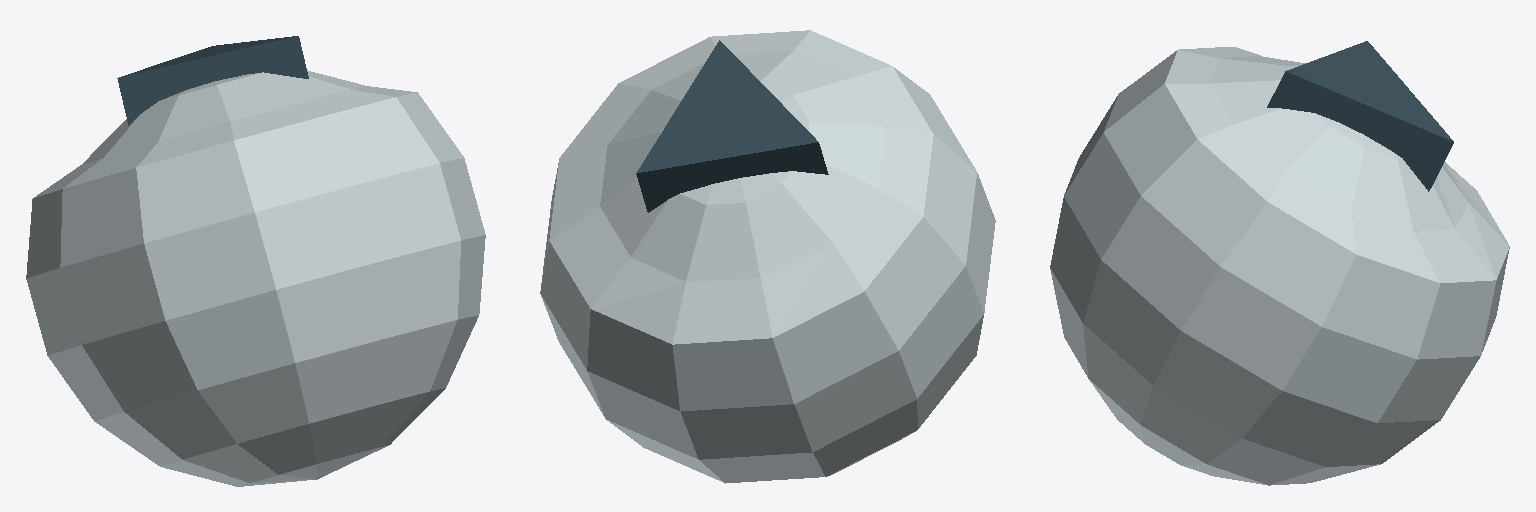
3 views of the same model, side by side, from view 1: azimuth 30°, elevation 25°; view 2: azimuth 150°, elevation 25°; view 3: azimuth 270°, elevation 25° (orthographic).
Parts seen in each view (by area): view 1: group[number redacted], group[number redacted]; view 2: group[number redacted], group[number redacted]; view 3: group[number redacted], group[number redacted].
Boxes of the visible parts, <box> form: group[number redacted]: <box>26,70,485,486</box>; group[number redacted]: <box>117,36,308,125</box>; group[number redacted]: <box>540,30,995,483</box>; group[number redacted]: <box>636,40,828,212</box>; group[number redacted]: <box>1050,47,1509,485</box>; group[number redacted]: <box>1267,41,1453,191</box>.
Size of the model in its own units: 0.1475 by 0.1484 by 0.1493.